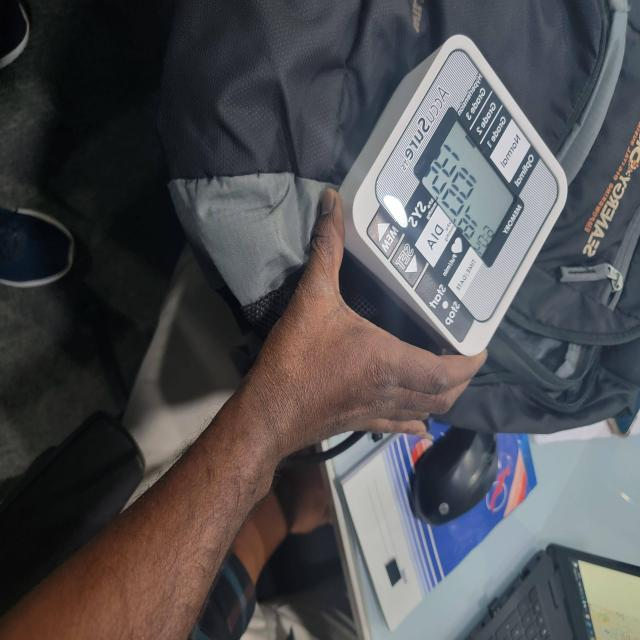bp: (342, 35, 570, 359)
